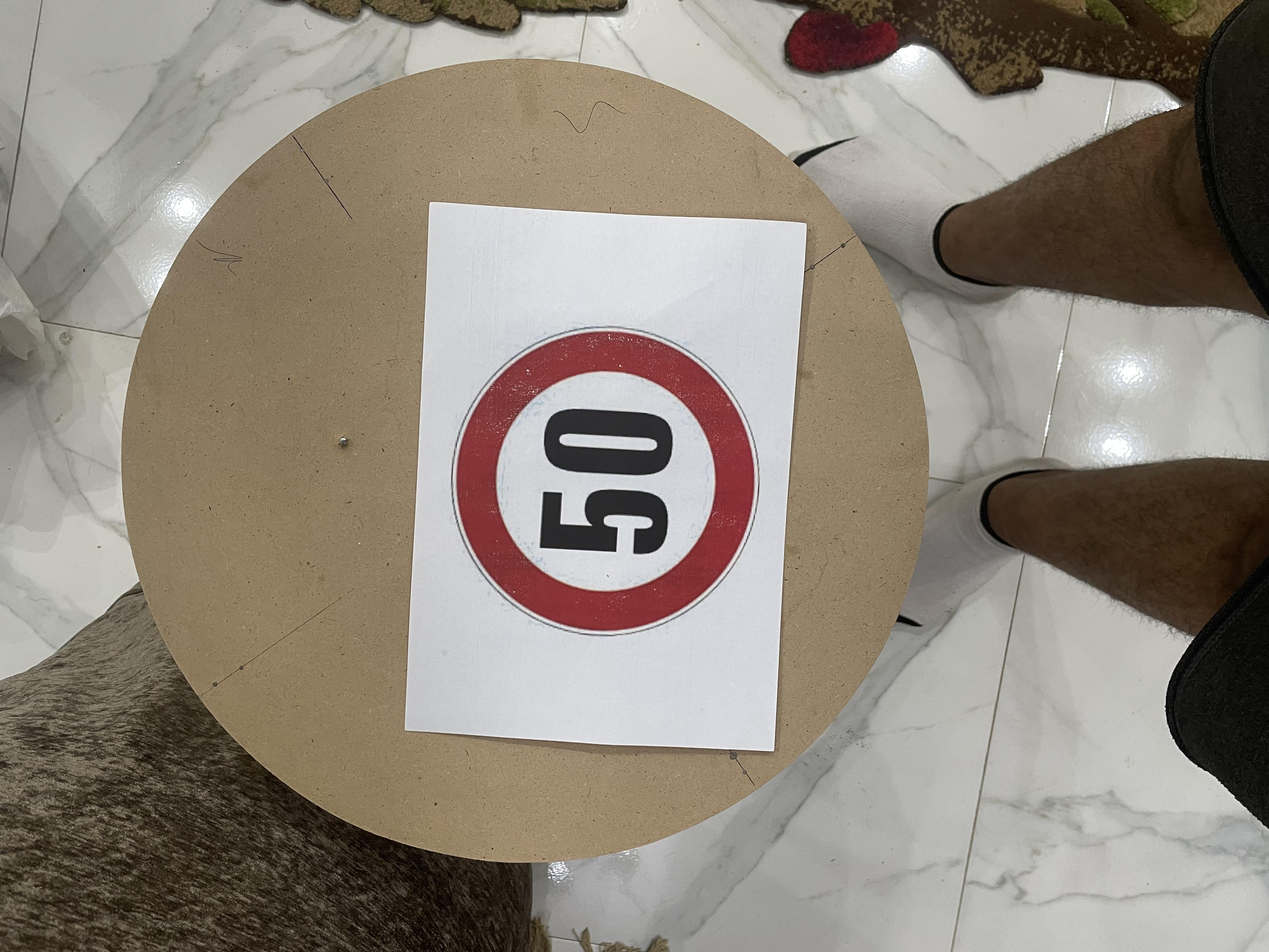50-Speed: (429, 326, 848, 575)
